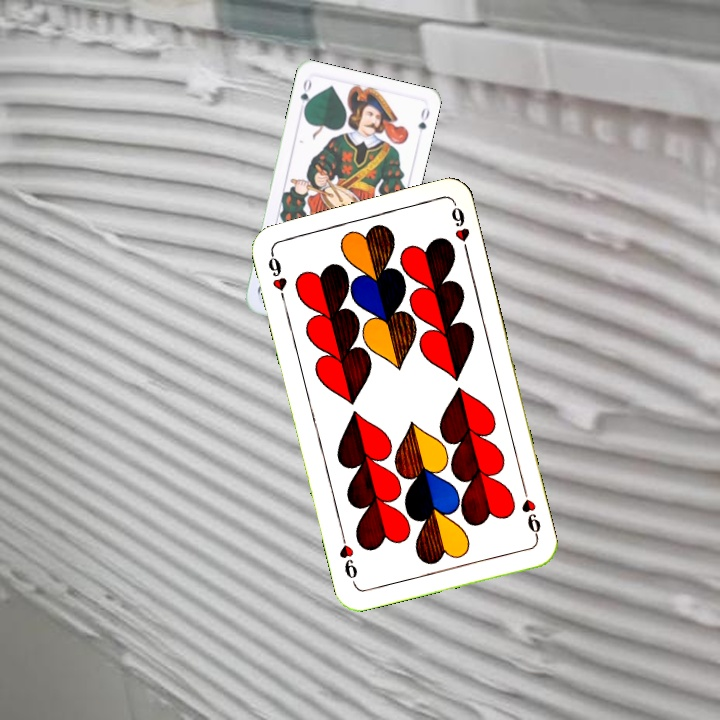GO: (296, 75, 314, 115)
H9: (264, 246, 290, 305), (517, 483, 543, 541)
